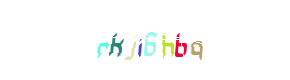6: (118, 0, 198, 80)
B: (140, 0, 220, 80)
H: (127, 0, 207, 80)
I: (104, 0, 184, 80)
J: (100, 0, 180, 80)
K: (92, 0, 172, 80)
Q: (154, 0, 234, 80)
R: (76, 0, 156, 80)
